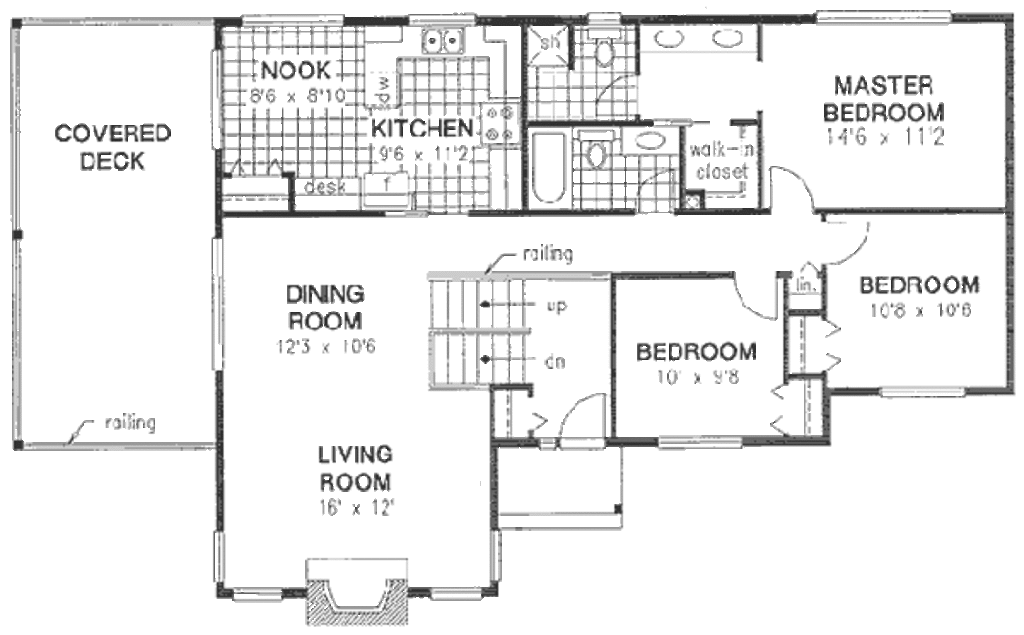door: (557, 388, 611, 452), (818, 214, 872, 265), (734, 268, 784, 321), (593, 72, 649, 117), (768, 167, 816, 214)
large_sink: (572, 119, 620, 172), (582, 23, 623, 72)
small_sink: (639, 30, 753, 54), (622, 117, 684, 156)
stairs: (429, 269, 618, 386)
tub: (529, 122, 572, 217)
twin_sink: (415, 27, 474, 63)
window: (804, 7, 961, 32), (207, 237, 233, 377), (653, 430, 757, 456), (878, 379, 972, 401), (232, 579, 287, 603), (213, 525, 230, 584), (488, 529, 505, 585), (428, 588, 487, 601)
